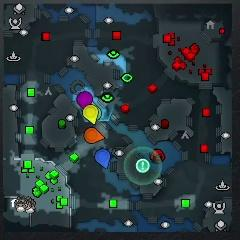Other: (136, 159, 150, 173)
p1: (94, 149, 111, 170)
p2: (92, 101, 103, 120)
p3: (77, 91, 93, 108)
p4: (83, 105, 98, 125)
p5: (84, 128, 105, 144)
